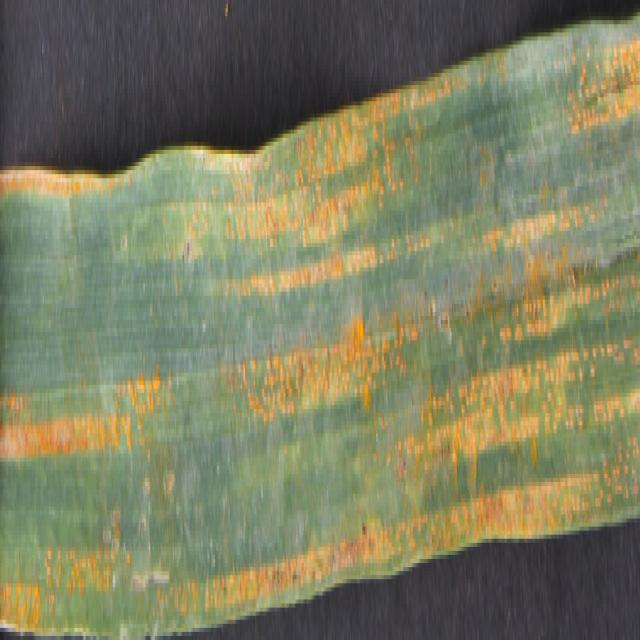leaf rust: (0, 4, 640, 611)
